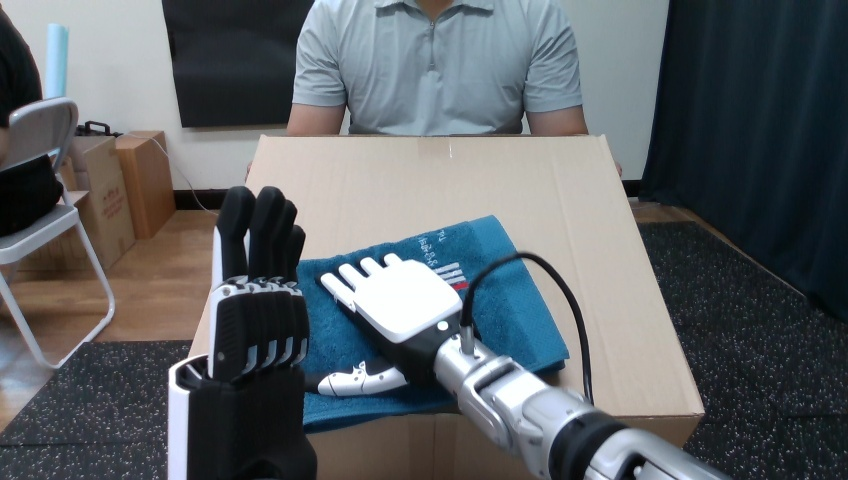left robot hand: (307, 252, 726, 479), (168, 186, 316, 478), (471, 257, 587, 397)
